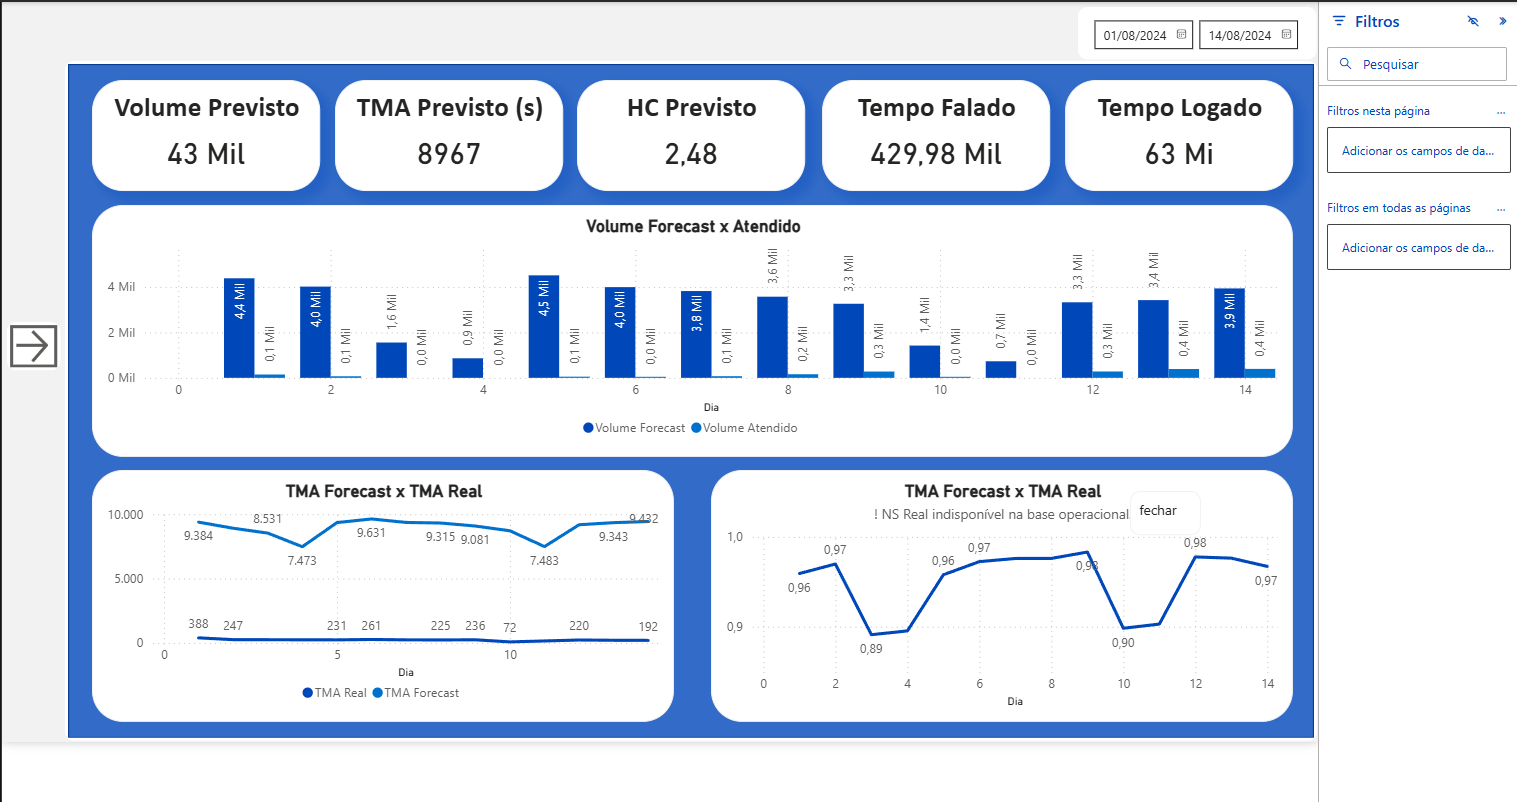

The dashboard page shown, as its layout file describes it:
{"tool":"powerbi","page":{"name":"Visão Geral","canvas":[1280,720],"ordinal":0},"visuals":[{"type":"shape","box":[60.3,56.4,1219.7,663.3],"z":0},{"type":"card","title":"Volume Previsto","fields":{"Values":["Tabela de Medidas.Volume Forecast"]},"box":[87.5,75.9,221.8,108],"z":1000},{"type":"card","title":"TMA Previsto (s)","fields":{"Values":["Avg(vw_operacional_consolidado.tma_forecast)"]},"box":[323.9,75.9,221.8,108],"z":2000},{"type":"card","title":"Tempo Logado","fields":{"Values":["Tabela de Medidas.Tempo Logado"]},"box":[1033.9,75.9,221.8,108],"z":3000},{"type":"card","title":"Tempo Falado","fields":{"Values":["Tabela de Medidas.Tempo Falado"]},"box":[797.6,75.9,221.8,108],"z":4000},{"type":"card","title":"HC Previsto","fields":{"Values":["Avg(vw_operacional_consolidado.hc_forecast)"]},"box":[559.3,75.9,221.8,108],"z":5000},{"type":"clusteredColumnChart","title":"Volume Forecast x Atendido ","fields":{"Category":["vw_operacional_consolidado.data.Variation.Hierarquia de datas.Dia"],"Y":["Tabela de Medidas.Volume Forecast","Tabela de Medidas.Volume Atendido"]},"box":[87.5,197.4,1168.1,245.1],"z":6000},{"type":"lineChart","title":"TMA Forecast x TMA Real","fields":{"Category":["vw_operacional_consolidado.data.Variation.Hierarquia de datas.Dia"],"Y":["Tabela de Medidas.TMA Real","Avg(vw_operacional_consolidado.tma_forecast)"]},"box":[87.5,455.2,566.1,245.1],"z":8000},{"type":"lineChart","title":"TMA Forecast x TMA Real","fields":{"Category":["vw_operacional_consolidado.data.Variation.Hierarquia de datas.Dia"],"Y":["Tabela de Medidas.NS Forecast"]},"box":[689.6,455.2,566.1,245.1],"z":9000},{"type":"textbox","box":[1097.3,475.9,68.8,42.9],"z":10000},{"type":"actionButton","box":[3.6,310.6,53.9,49.4],"z":11000},{"type":"slicer","fields":{"Values":["vw_operacional_consolidado.data"]},"box":[1045.9,3.6,234.3,53],"z":12000}]}

Visuals, with their boxes on the page's 1280x720 design canvas (x1, y1, x2, y2). These are canvas units, not pixel positions in the 1517x802 screenshot, which may show the page scaled, cropped or inside an application window:
shape: rect(60, 56, 1280, 720)
"Volume Previsto" card: rect(88, 76, 309, 184)
"TMA Previsto (s)" card: rect(324, 76, 546, 184)
"Tempo Logado" card: rect(1034, 76, 1256, 184)
"Tempo Falado" card: rect(798, 76, 1019, 184)
"HC Previsto" card: rect(559, 76, 781, 184)
"Volume Forecast x Atendido " clusteredColumnChart: rect(88, 197, 1256, 442)
"TMA Forecast x TMA Real" lineChart: rect(88, 455, 654, 700)
"TMA Forecast x TMA Real" lineChart: rect(690, 455, 1256, 700)
textbox: rect(1097, 476, 1166, 519)
actionButton: rect(4, 311, 58, 360)
slicer - vw_operacional_consolidado.data: rect(1046, 4, 1280, 57)
